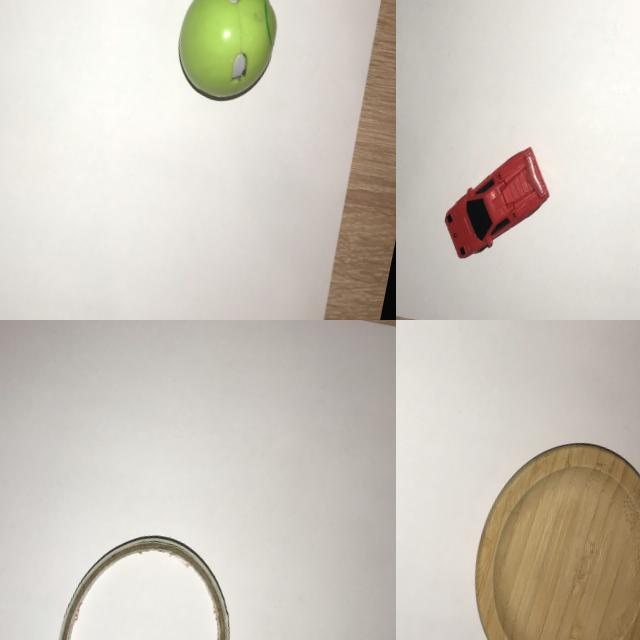car: (430, 126, 564, 278)
cup_holder: (439, 414, 640, 640)
scotch: (33, 514, 252, 640)
toy: (161, 0, 293, 117)
